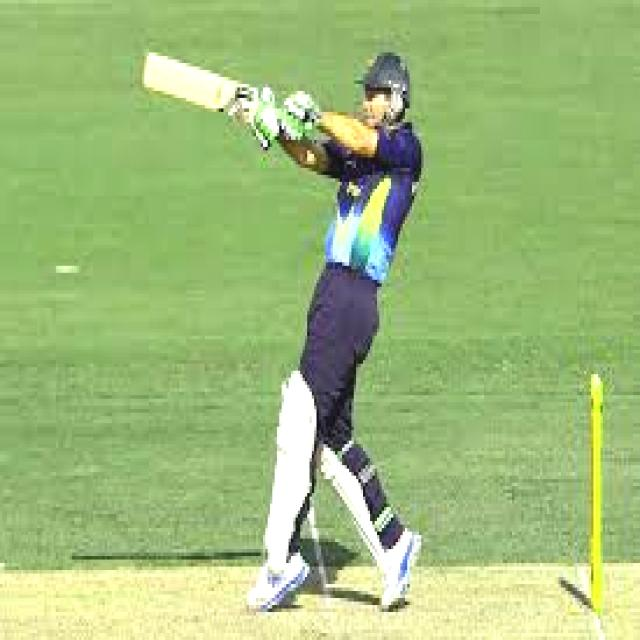toe: (144, 53, 153, 85)
